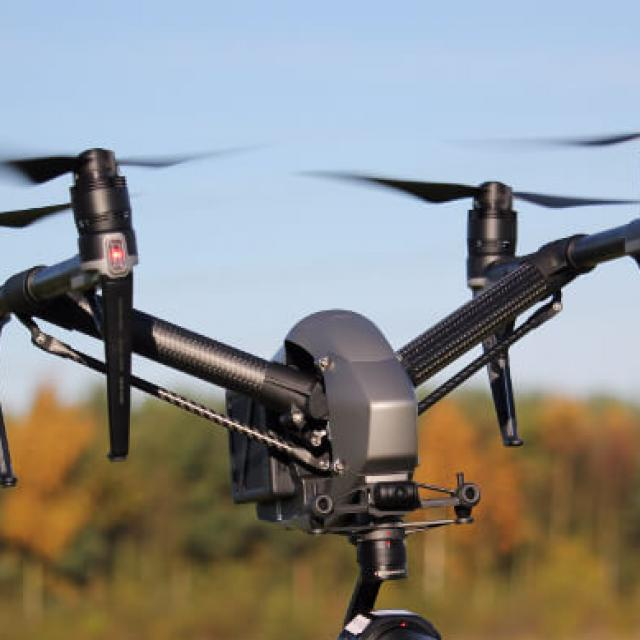drone: (0, 90, 640, 476)
